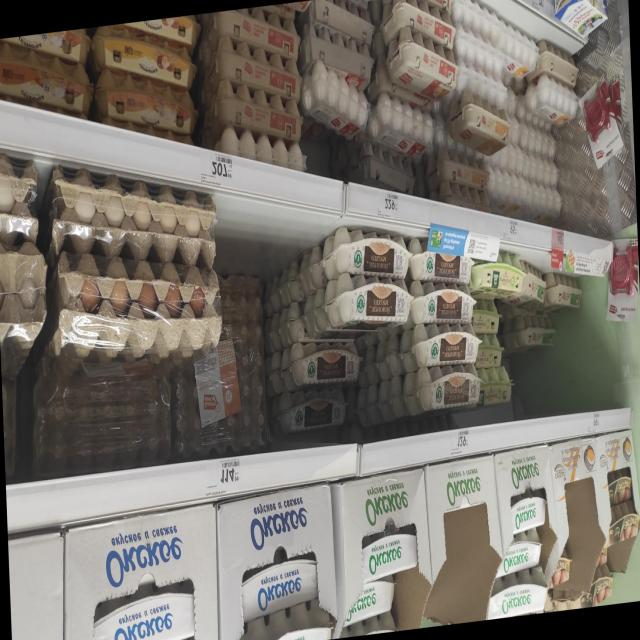organic waste: (325, 269, 414, 340), (87, 584, 198, 640), (324, 219, 413, 287), (239, 555, 320, 621), (281, 334, 363, 396), (402, 361, 484, 419), (401, 318, 481, 377), (267, 388, 351, 442), (408, 234, 477, 288), (409, 276, 478, 328), (482, 569, 550, 620), (361, 529, 418, 584), (494, 538, 544, 580), (509, 492, 546, 536)
